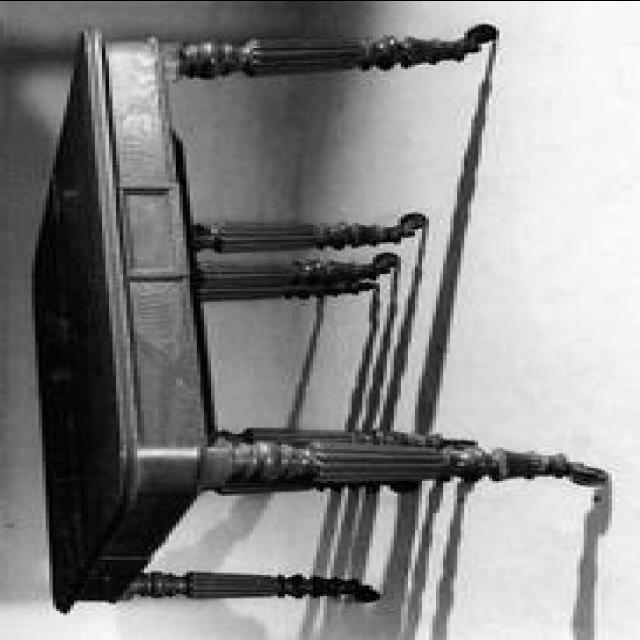table: (28, 20, 612, 611)
